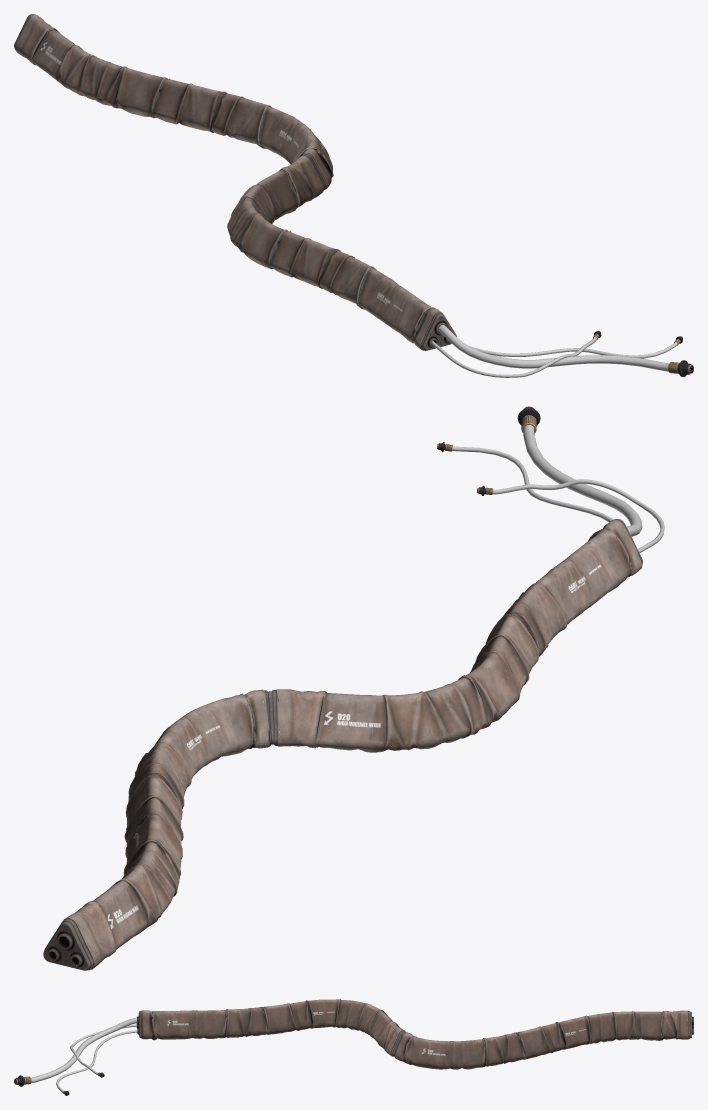
The model's file is SM_Wire01_LineStyle01.fbx.
The picture shows the model from 3 angles, top to bottom: view 1: azimuth 30°, elevation 25°; view 2: azimuth 150°, elevation 25°; view 3: azimuth 270°, elevation 25°; orthographic projection. The views are drawn at different scales.
Parts seen in each view (by area): view 1: SM_Wire01_LineStyle01_LOD0; view 2: SM_Wire01_LineStyle01_LOD0; view 3: SM_Wire01_LineStyle01_LOD0.
Part boxes in pixels (bbox=[...]): SM_Wire01_LineStyle01_LOD0: bbox=[14, 14, 693, 377]; SM_Wire01_LineStyle01_LOD0: bbox=[43, 406, 664, 970]; SM_Wire01_LineStyle01_LOD0: bbox=[14, 999, 693, 1095].
Bounding box in the file's own units: 123 × 444 × 20.22.
4 materials, 1 textured.
